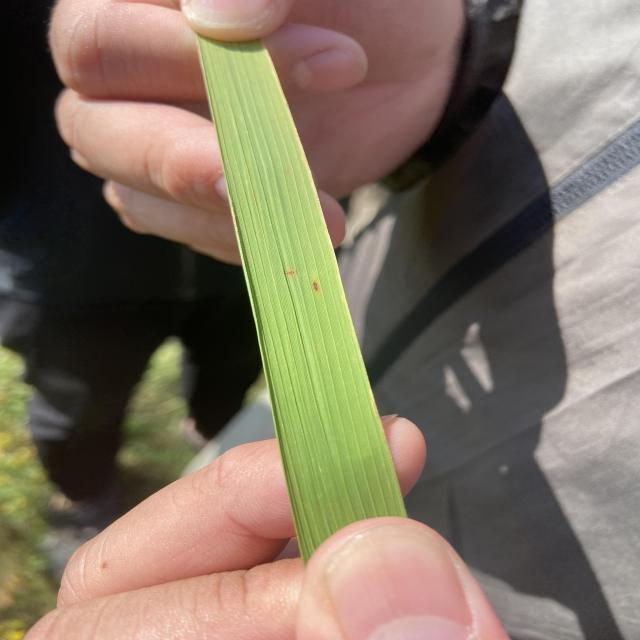Dom nau: (313, 282, 318, 291), (286, 271, 294, 274)
